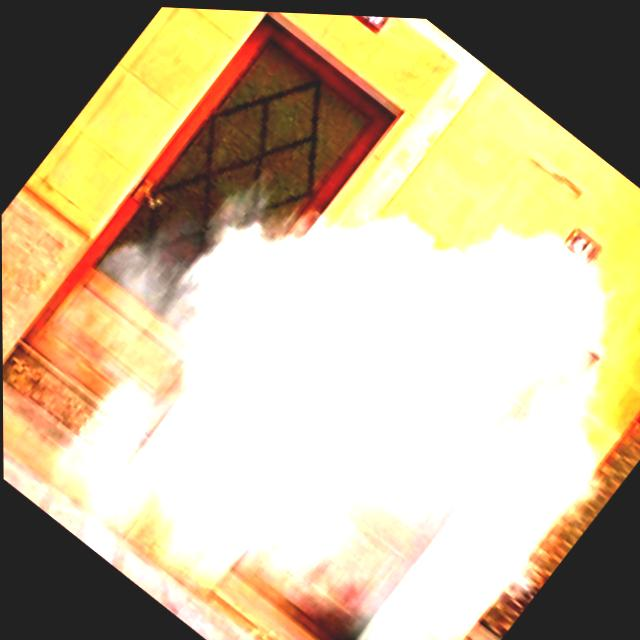Smoke: (2, 13, 640, 640)
